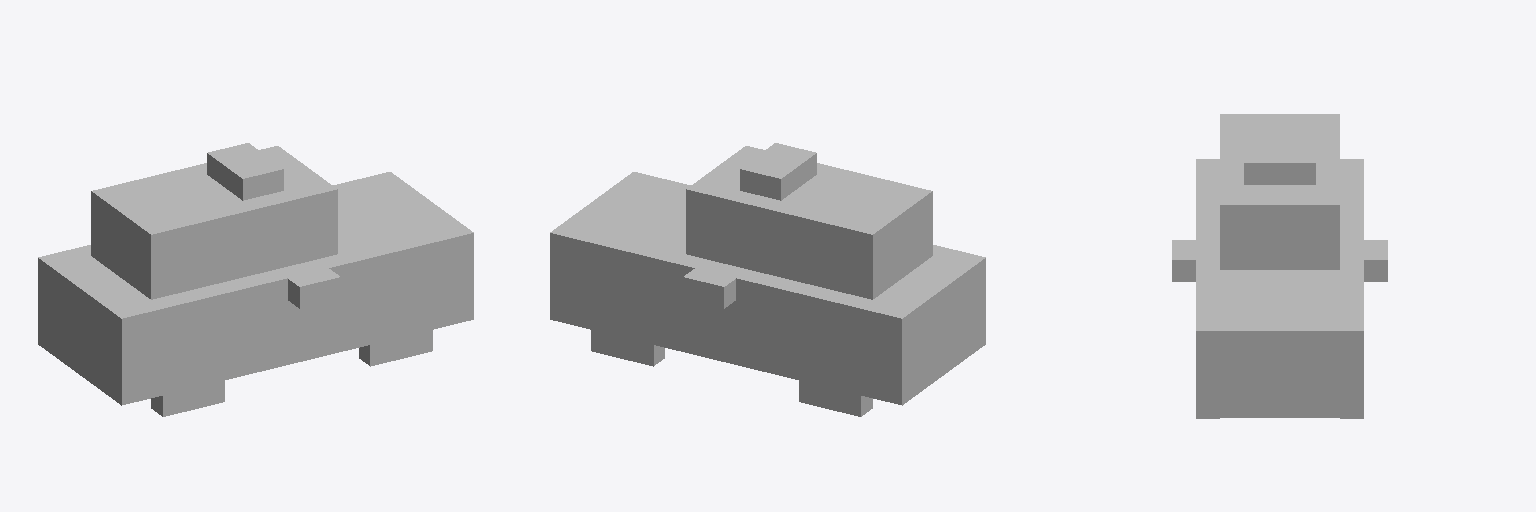
The model's file is car_yellow.obj.
3 renders of one model, left to right at view 1: azimuth 30°, elevation 25°; view 2: azimuth 150°, elevation 25°; view 3: azimuth 270°, elevation 25°, orthographic.
Visible parts, largest first — view 1: object 1; view 2: object 1; view 3: object 1.
Boxes of the visible parts, x1=… form: object 1: x1=38, y1=143, x2=473, y2=416; object 1: x1=550, y1=143, x2=985, y2=416; object 1: x1=1172, y1=114, x2=1387, y2=418.
Size of the model in its own units: 3.4 by 1.8 by 1.8.